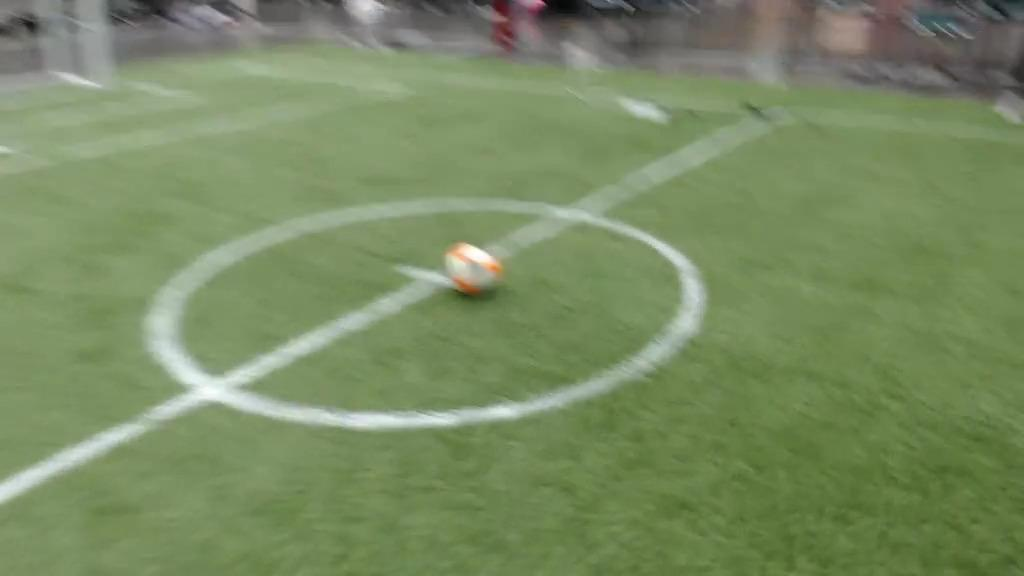ball: (450, 243, 502, 298)
